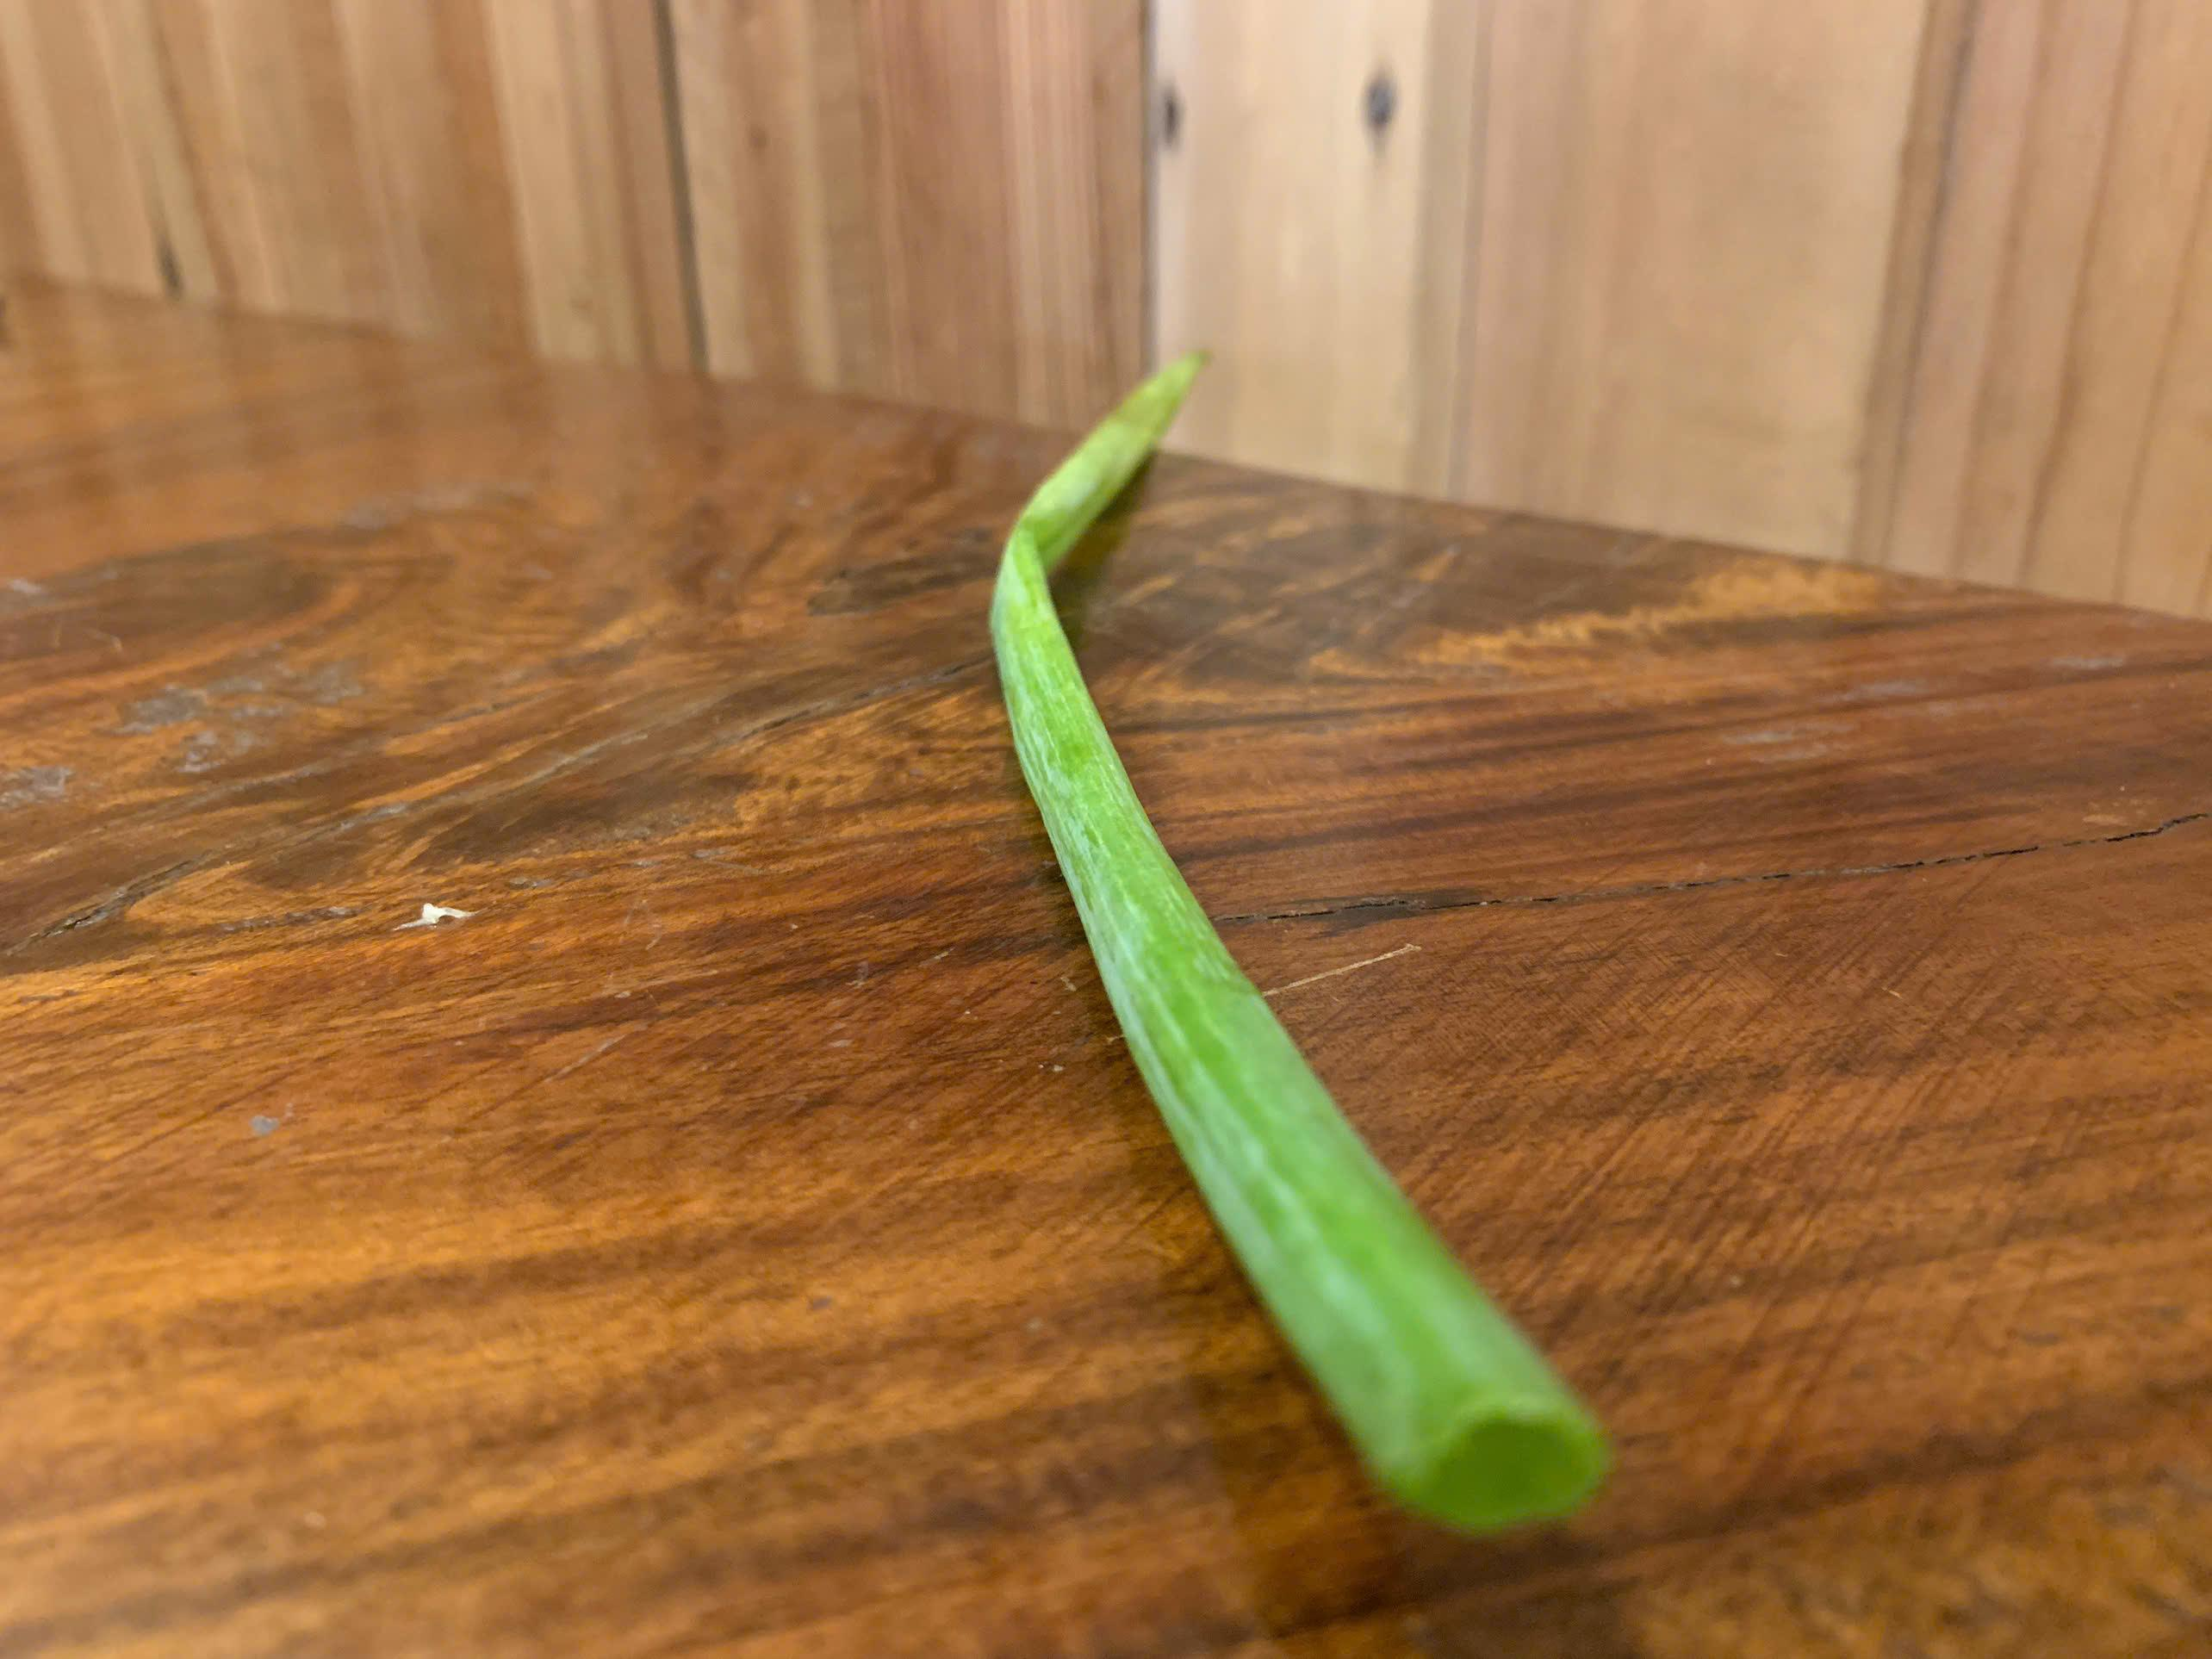Huu co: (982, 354, 1604, 1531)
